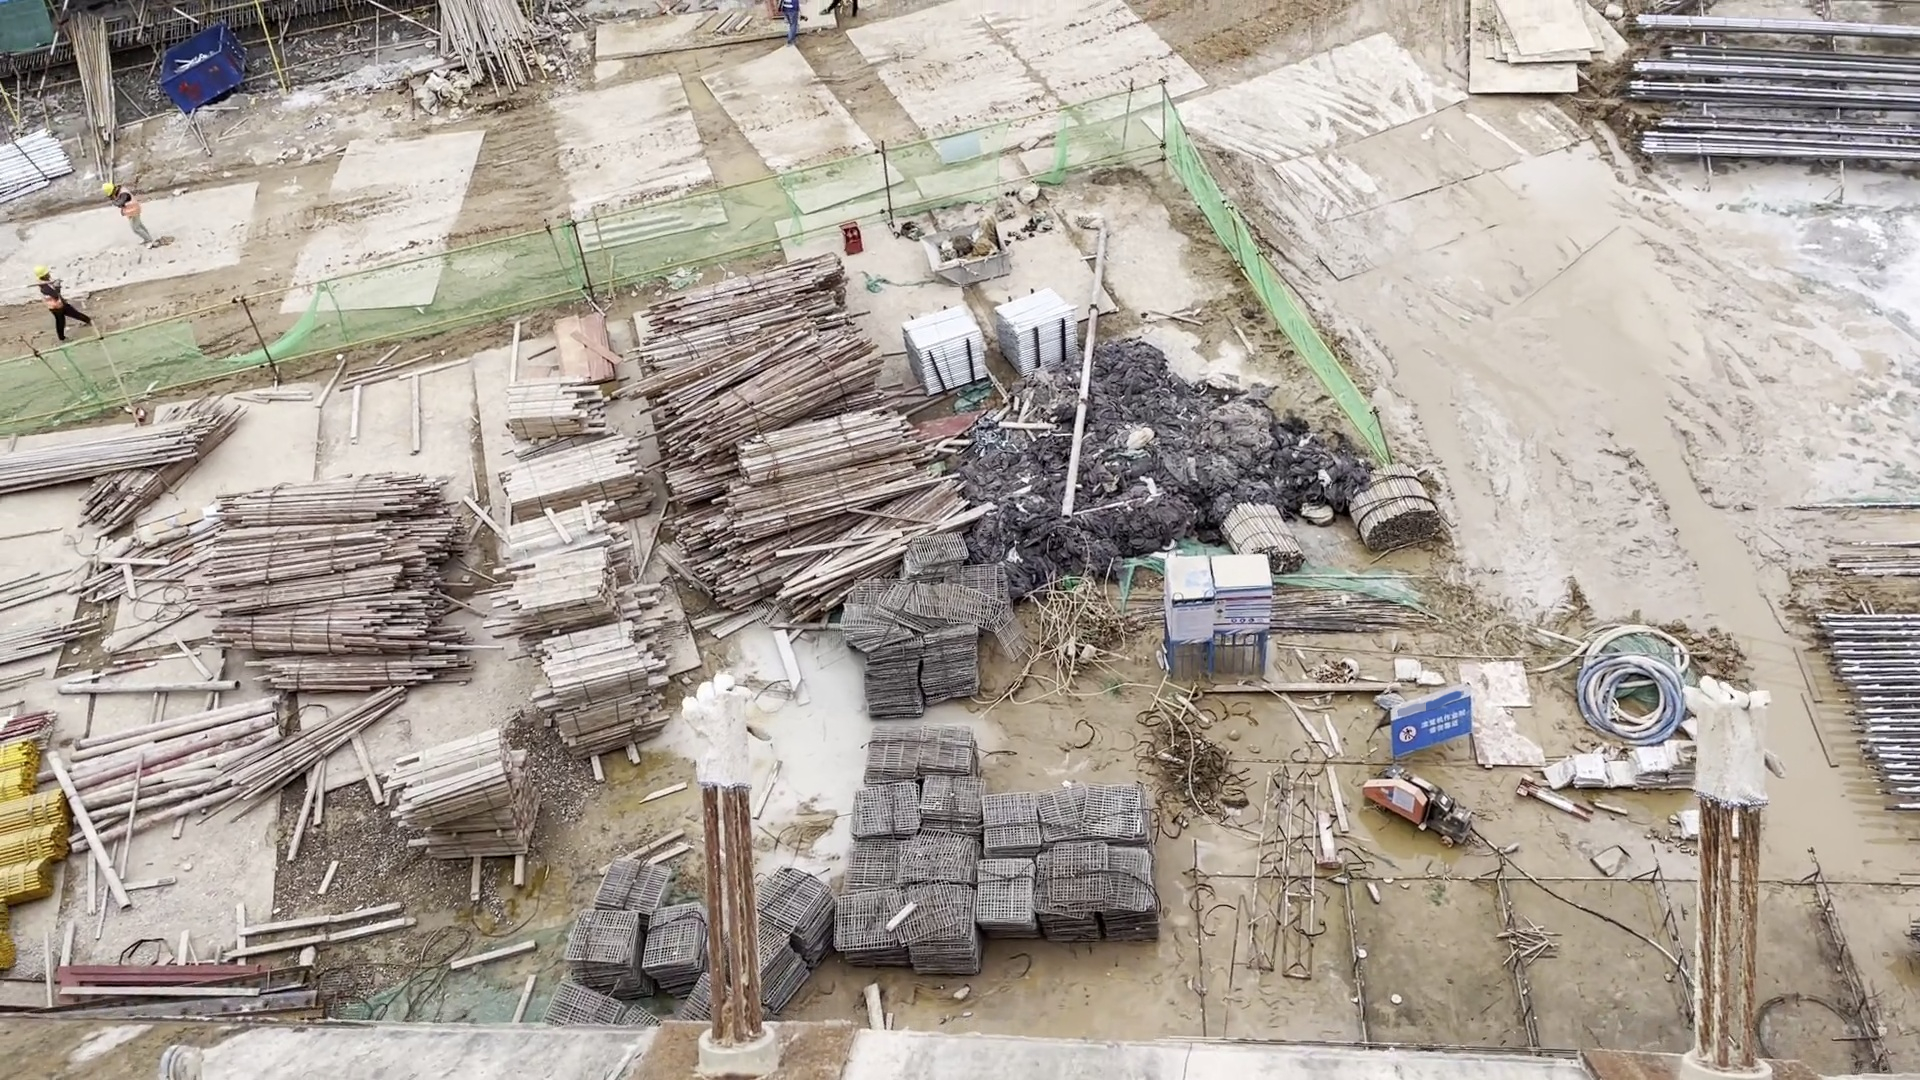board: (556, 314, 616, 382)
hopper: (160, 18, 252, 117)
slogan: (1394, 684, 1469, 760)
wood: (214, 471, 454, 691), (649, 251, 860, 455), (1, 396, 237, 535), (783, 481, 967, 625), (731, 411, 919, 526), (502, 498, 662, 632), (385, 725, 539, 857), (657, 454, 781, 611), (533, 620, 669, 760), (506, 435, 651, 521), (506, 375, 607, 435)
